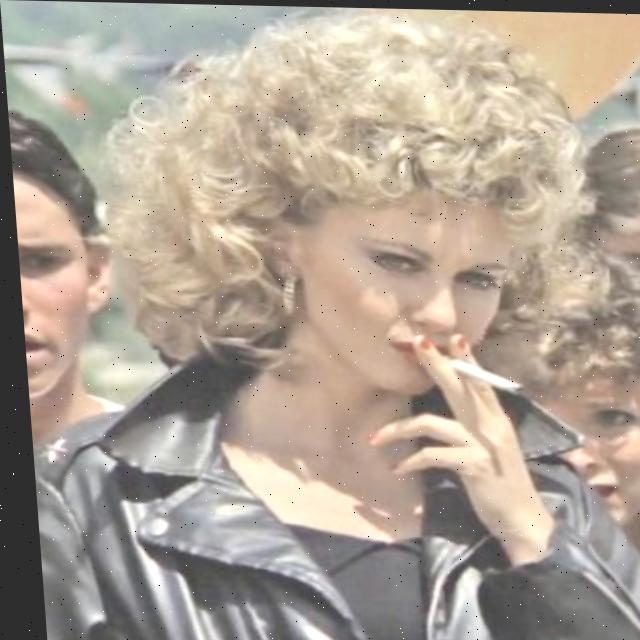cigarette: (433, 353, 518, 393)
